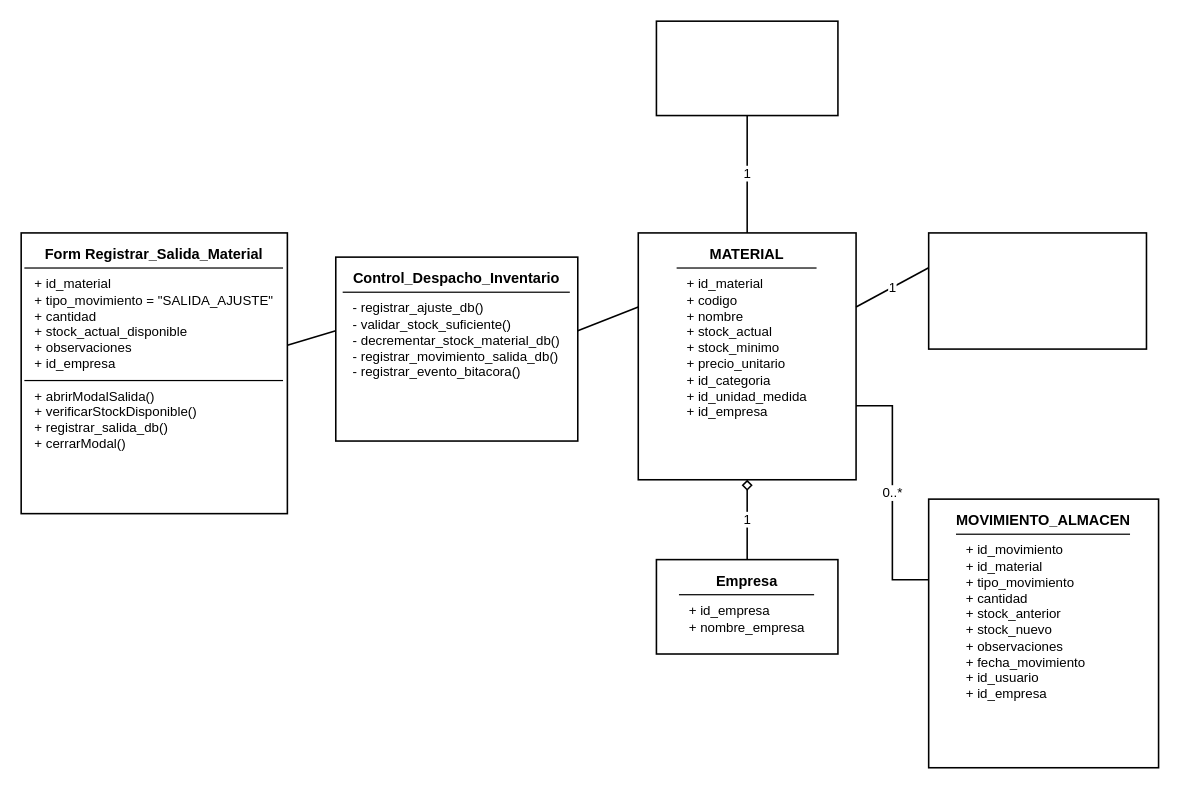
The diagram is 1181 pixels wide and 793 high, and some of its shapes have lost their labels. Each missing label, with the centre of its shape:
CATEGORIA_MATERIAL + id_categoria + nombre: point (746, 68)
UNIDAD_MEDIDA + id_unidad_medida + nombre + abreviatura: point (1037, 290)
